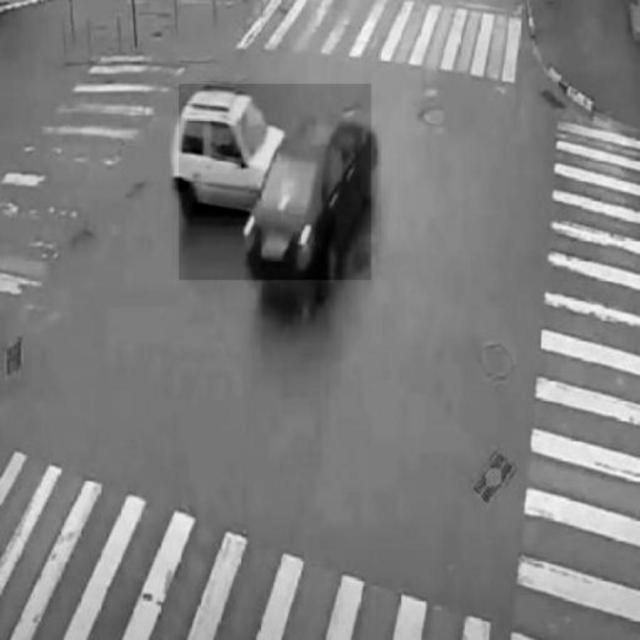accident: (179, 84, 371, 280)
